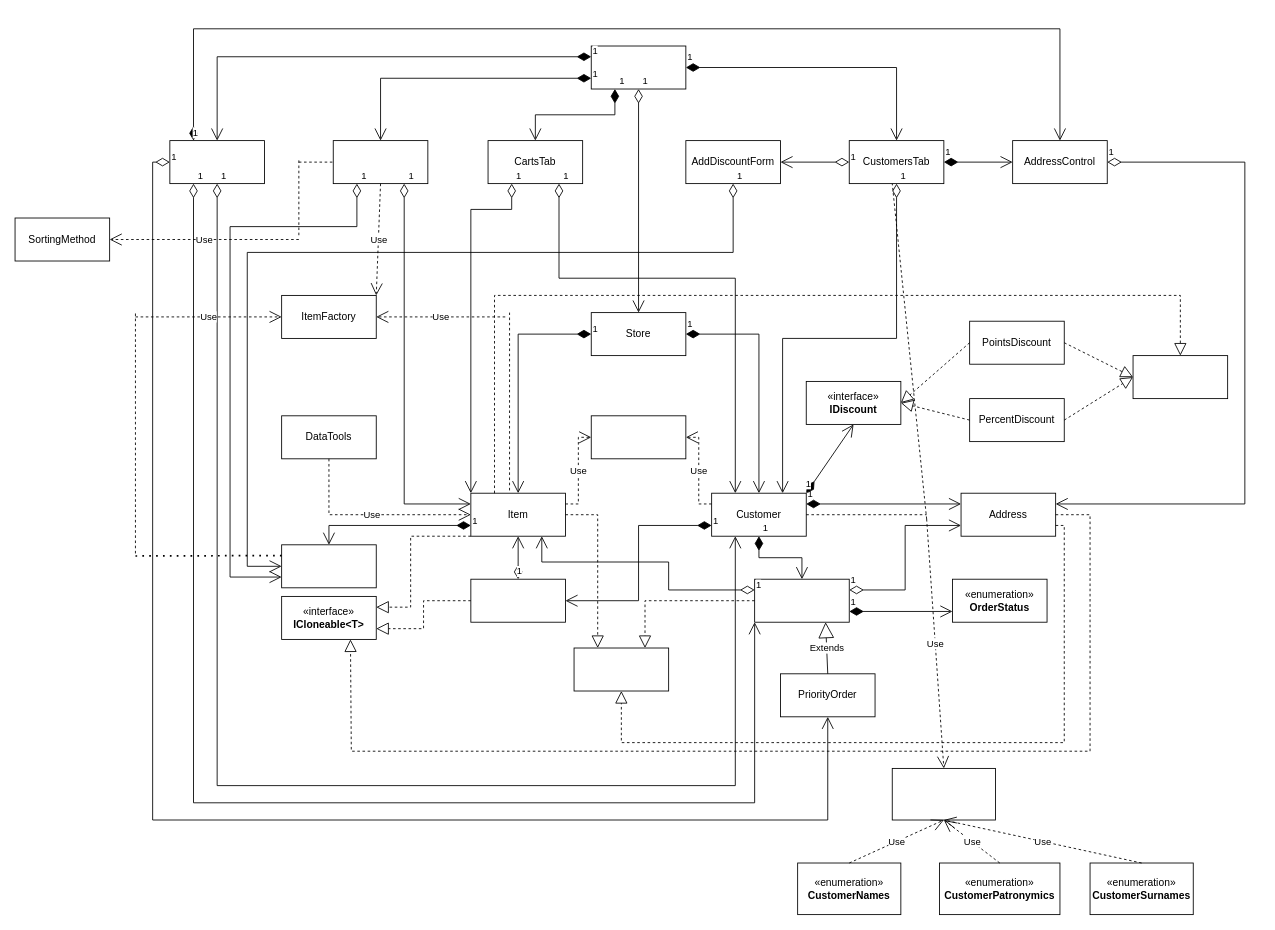
Some shapes in this 1275 by 930 pixel diagram are drawn without their labels. The shapes that lost their labels are listed below. From the top down, each one's centre as x and y in pixels, then its label:
(x=638, y=67): MainForm
(x=216, y=162): OrdersTab
(x=380, y=162): ItemsTab
(x=1180, y=377): «interface» IComparable
(x=638, y=437): ValueValidator
(x=328, y=566): «enumeration» Category
(x=517, y=600): Cart
(x=801, y=600): Order
(x=621, y=669): «interface» IEquatable<T>
(x=943, y=794): CustomerFacroty
